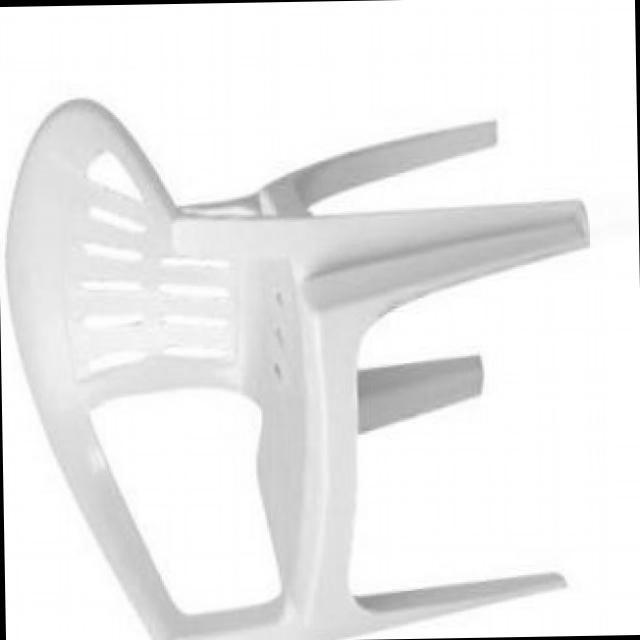chair: (0, 87, 596, 640)
